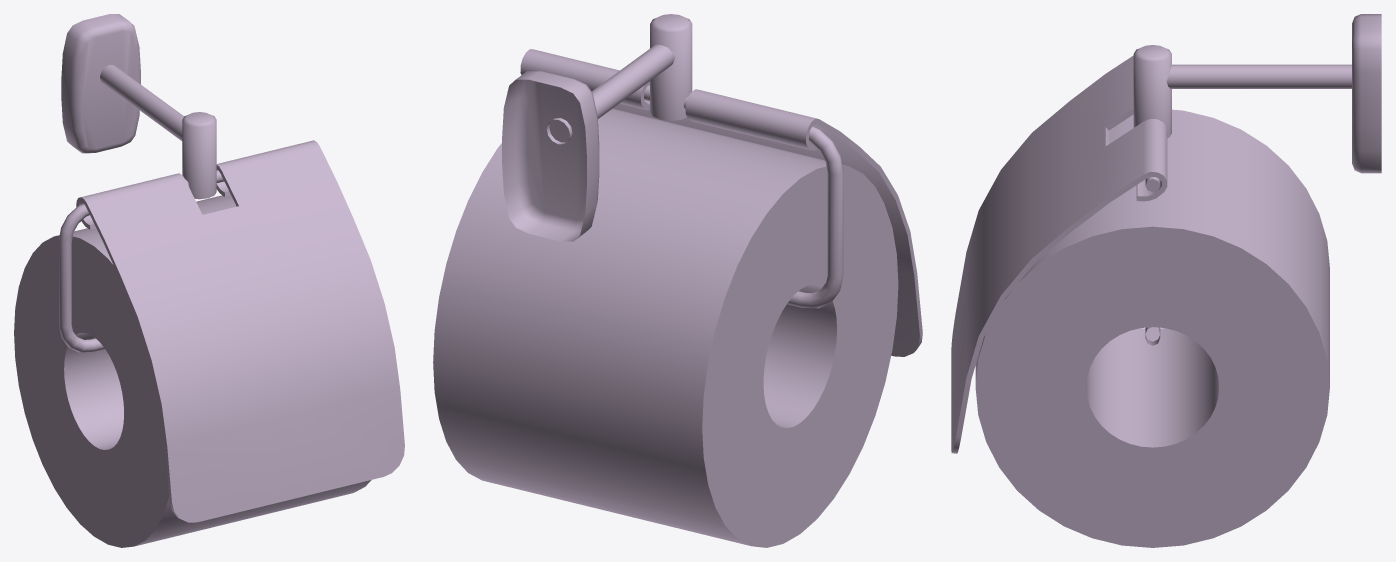
File: Paper.fbx
3 views of the same model, side by side, from view 1: azimuth 30°, elevation 25°; view 2: azimuth 150°, elevation 25°; view 3: azimuth 270°, elevation 25° (orthographic). The views are drawn at different scales.
Parts seen in each view (by area): view 1: Paper; view 2: Paper; view 3: Paper.
Boxes of the visible parts, left/top/right/bottom form: Paper: left=14, top=14, right=404, bottom=547; Paper: left=433, top=14, right=922, bottom=547; Paper: left=951, top=14, right=1381, bottom=547.
Size of the model in its own units: 12.79 by 17.27 by 14.56.
